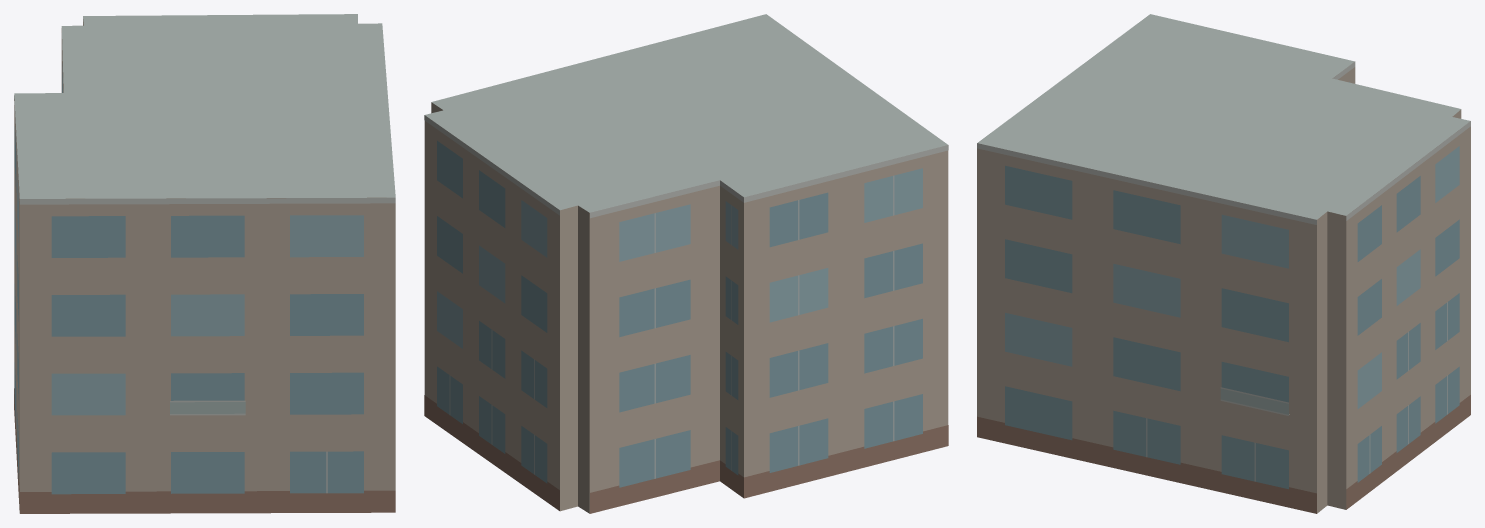
The model's file is survey-upis-32720244.glb.
3 renders of one model, left to right at view 1: azimuth 30°, elevation 25°; view 2: azimuth 150°, elevation 25°; view 3: azimuth 270°, elevation 25°, orthographic. The views are drawn at different scales.
Visible parts, largest first — view 1: survey-upis-32720244.tmp; view 2: survey-upis-32720244.tmp; view 3: survey-upis-32720244.tmp.
Part boxes in pixels (bbox=[...]): survey-upis-32720244.tmp: bbox=[14, 14, 395, 513]; survey-upis-32720244.tmp: bbox=[424, 14, 948, 513]; survey-upis-32720244.tmp: bbox=[977, 14, 1470, 513].
Bounding box in the file's own units: 20.23 × 13.47 × 20.51.
